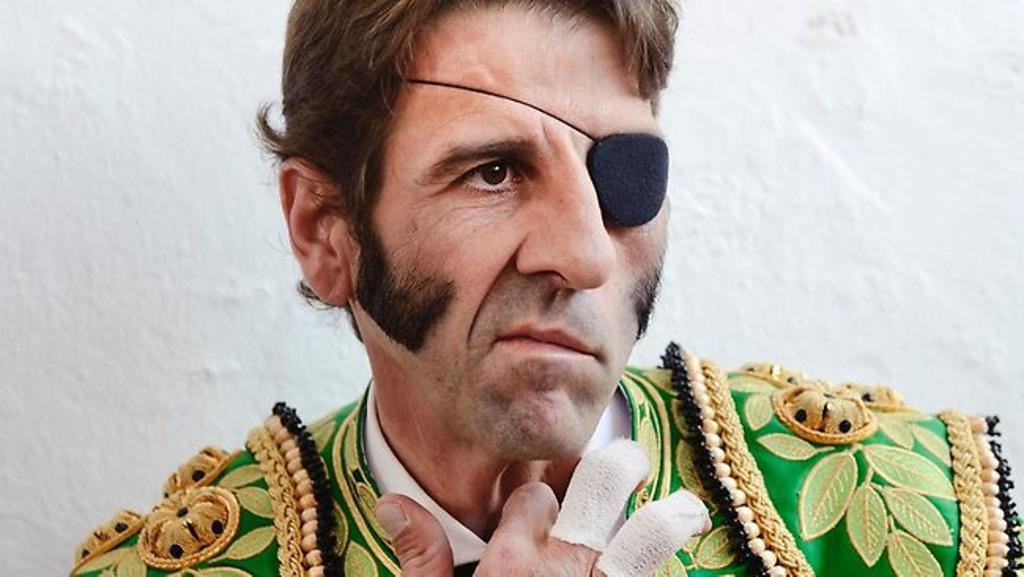face: (351, 37, 667, 459)
